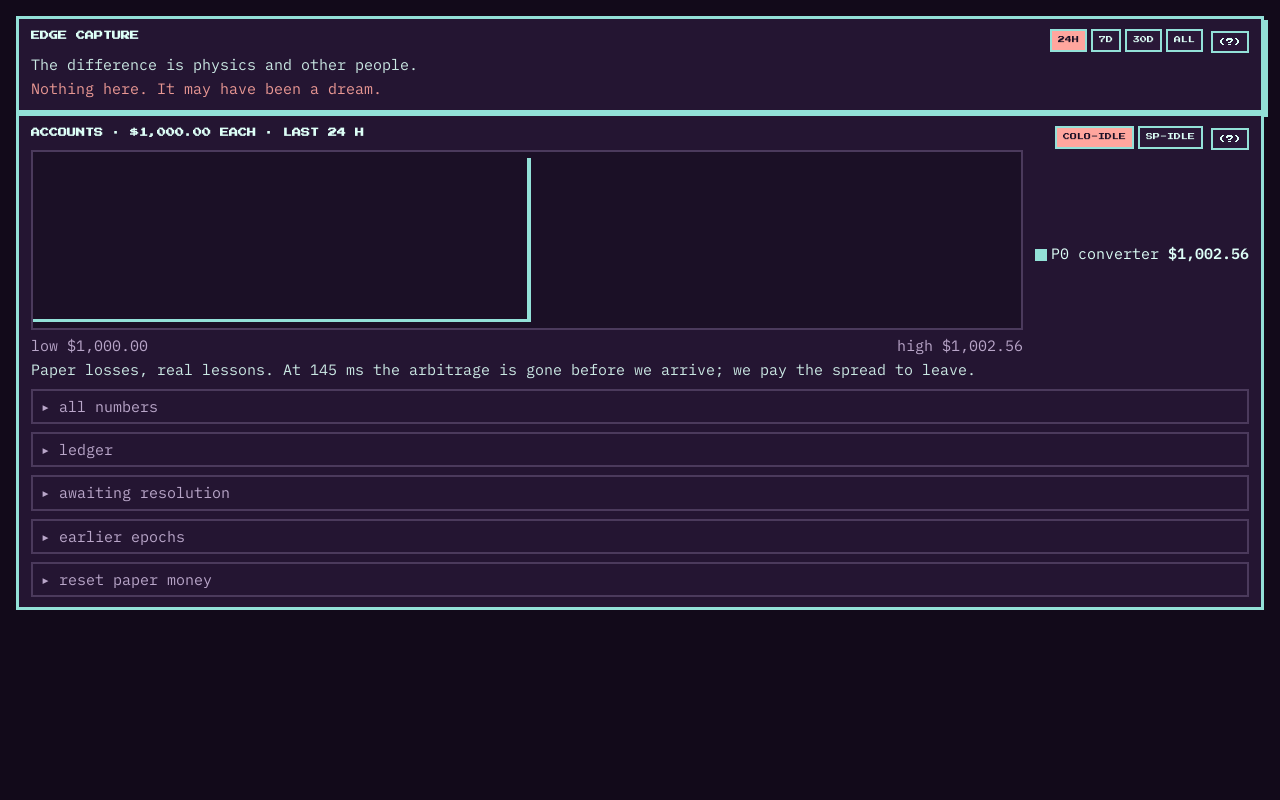
Paper › switches scenario and shows one line per policy, cards, positions and the ledger
Click the button "SP-IDLE".
click(1170, 137)  # box [1138,126,1203,149]
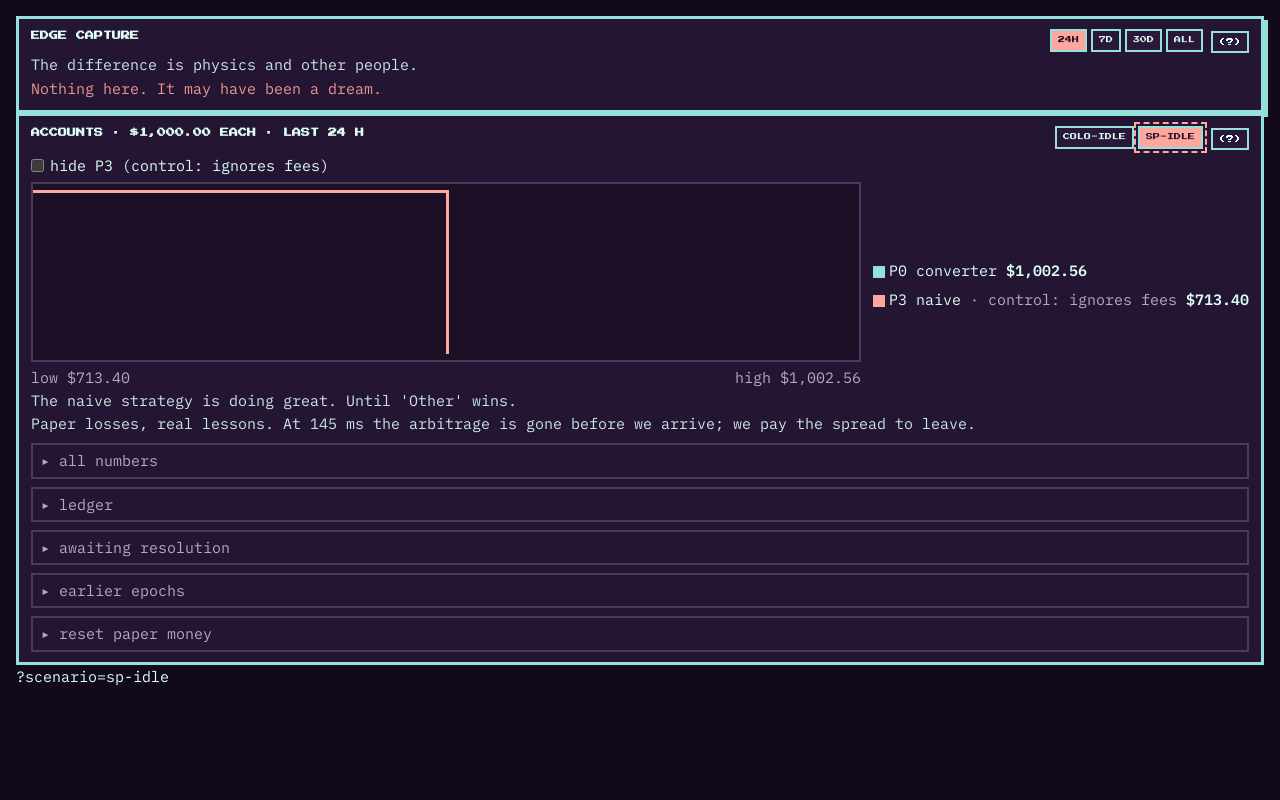
Check: the text with test id "loc" shows "scenario=sp-idle", box [16,666,169,686]
Check: the text "P3 naive" is shown, box [889,290,961,309]
Check: the text "The naive strategy is doing great. Until 'Other' wins." is shown, box [31,391,517,410]
